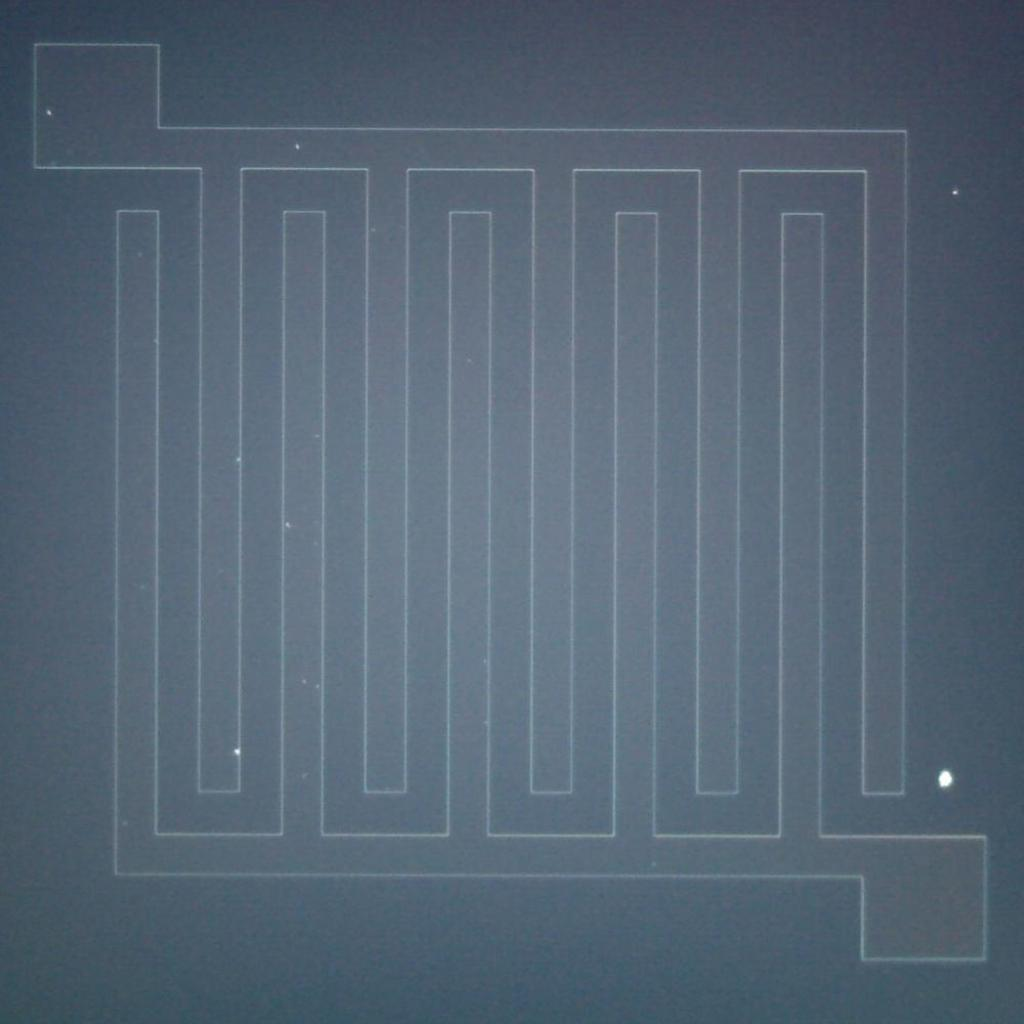dot: (937, 772, 952, 786), (294, 144, 300, 150), (952, 190, 958, 196), (284, 522, 290, 528), (234, 749, 240, 755), (47, 110, 52, 115), (372, 228, 376, 233), (302, 680, 307, 684), (468, 358, 472, 362)
